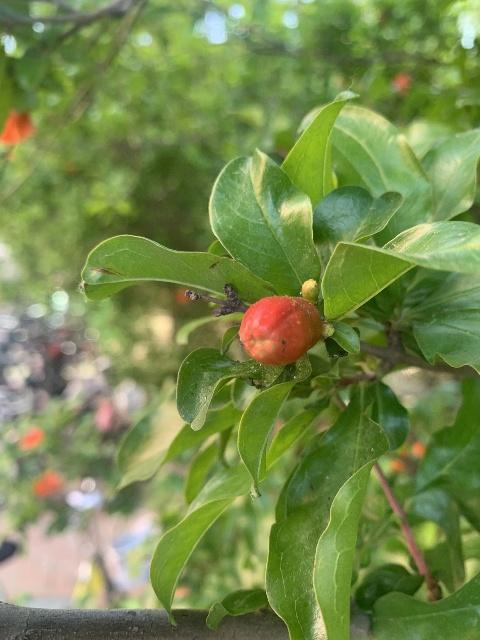bud: (239, 295, 322, 366)
